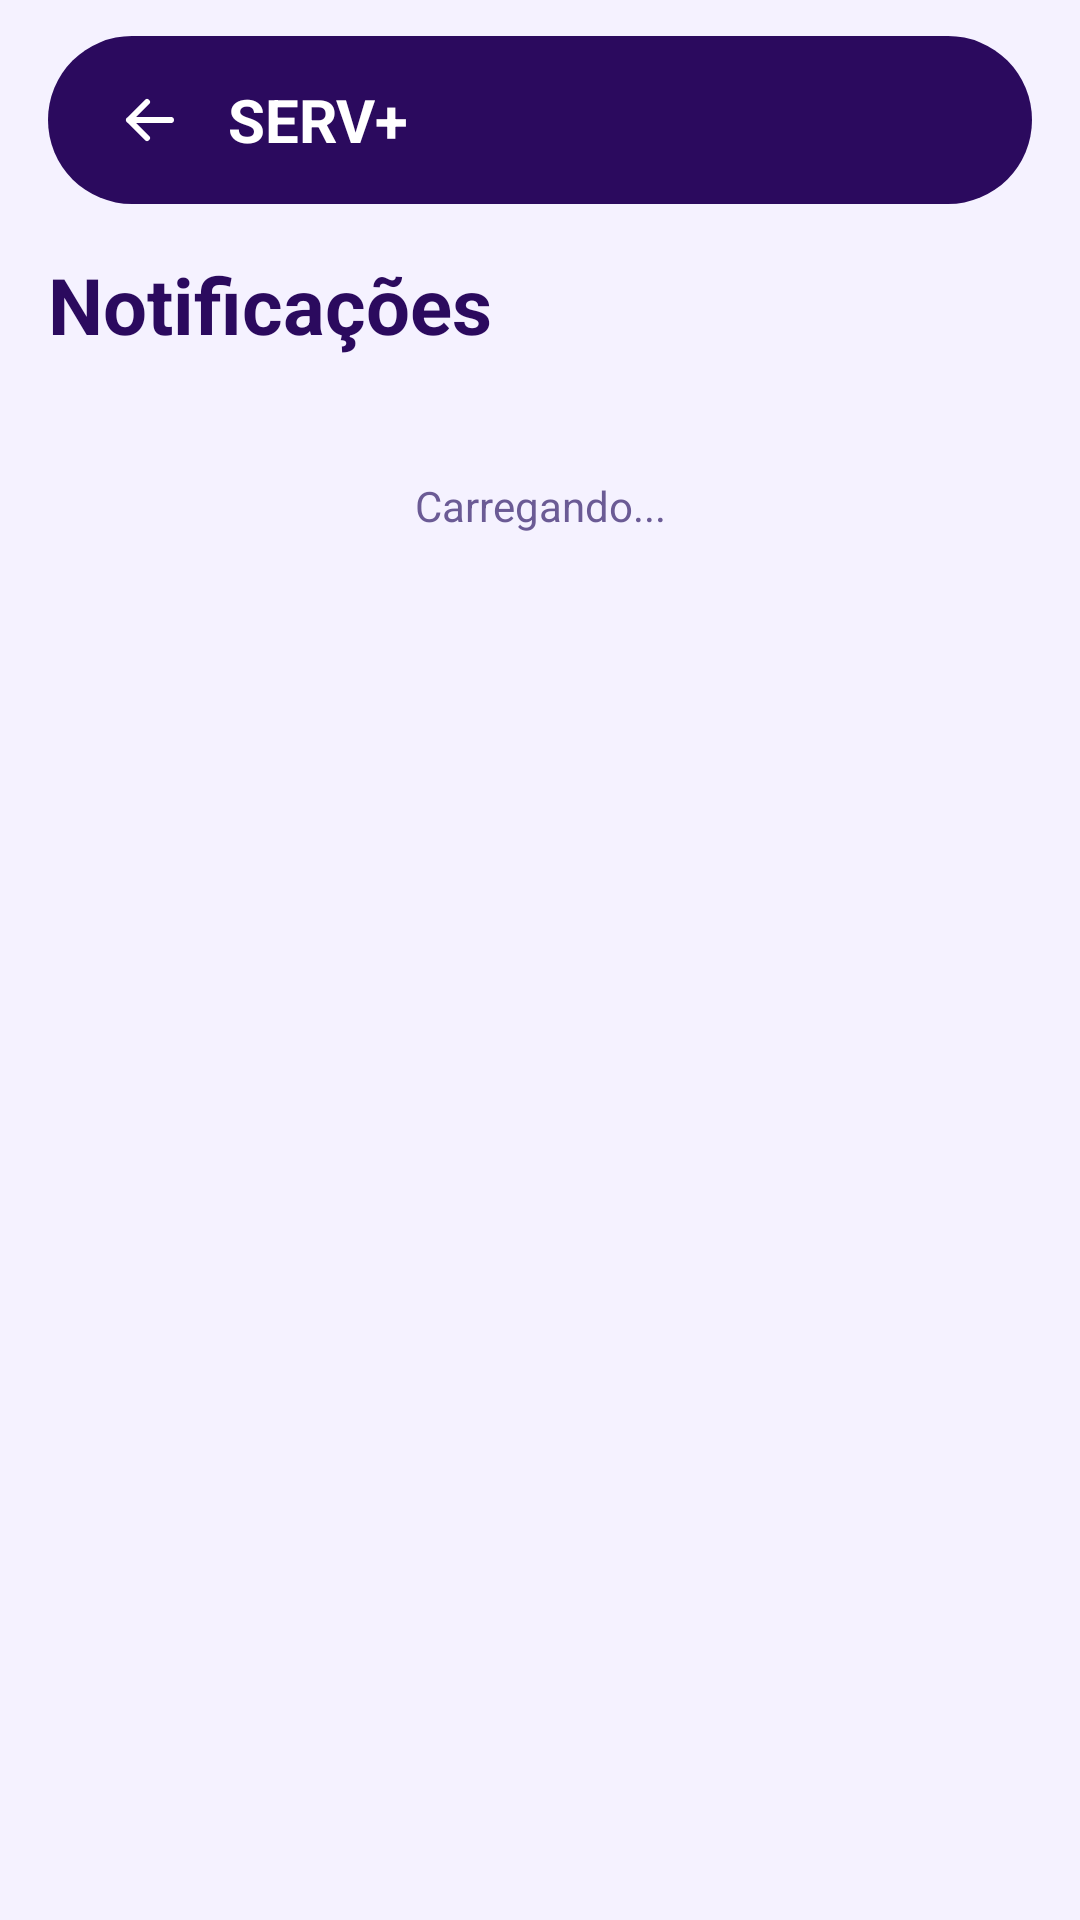

Where to tap for icons on this 1080px x 1920px app screen, as [x,y]:
Voltar: [150,120]
